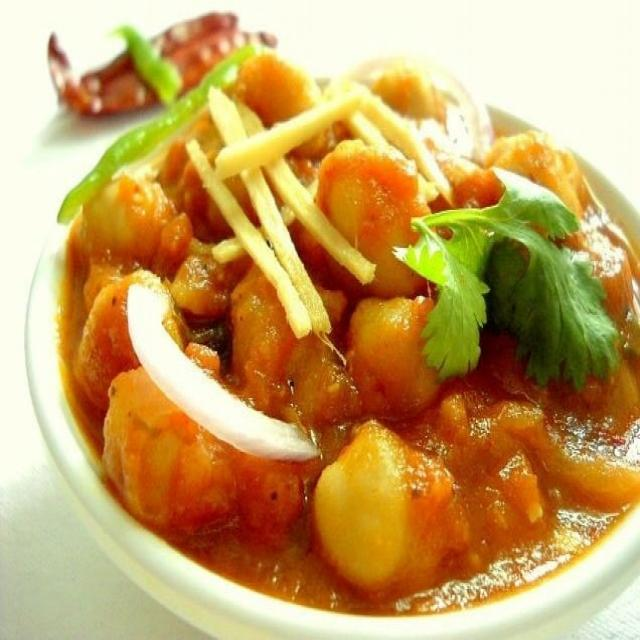Chole: (59, 53, 640, 614)
